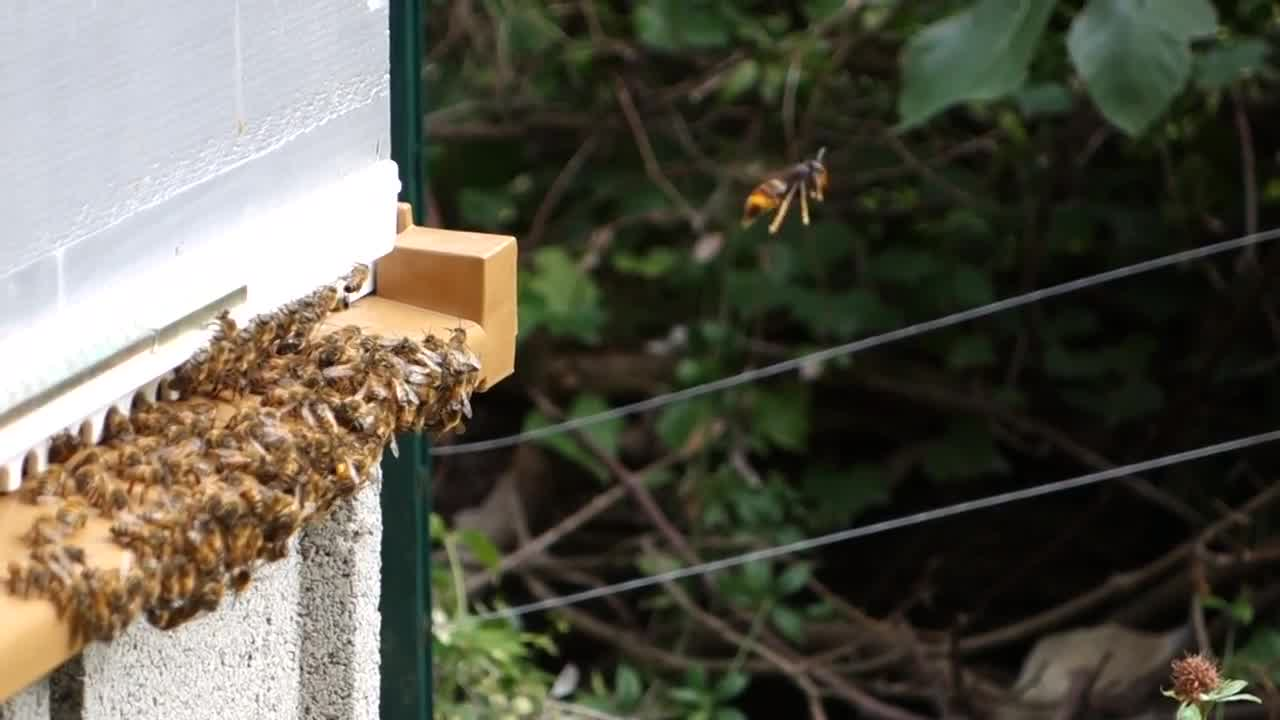bee: (192, 359, 371, 431), (186, 463, 297, 569), (15, 543, 128, 644), (30, 435, 111, 535), (139, 550, 235, 625), (254, 292, 331, 356), (274, 433, 335, 511), (118, 400, 194, 457), (382, 332, 438, 388), (437, 371, 484, 436), (377, 386, 433, 433), (205, 416, 267, 458), (304, 326, 378, 359), (123, 454, 182, 494), (335, 261, 384, 305), (204, 300, 242, 355), (109, 518, 165, 554), (338, 448, 376, 499), (438, 329, 477, 365)
hornet: (739, 139, 842, 227)
